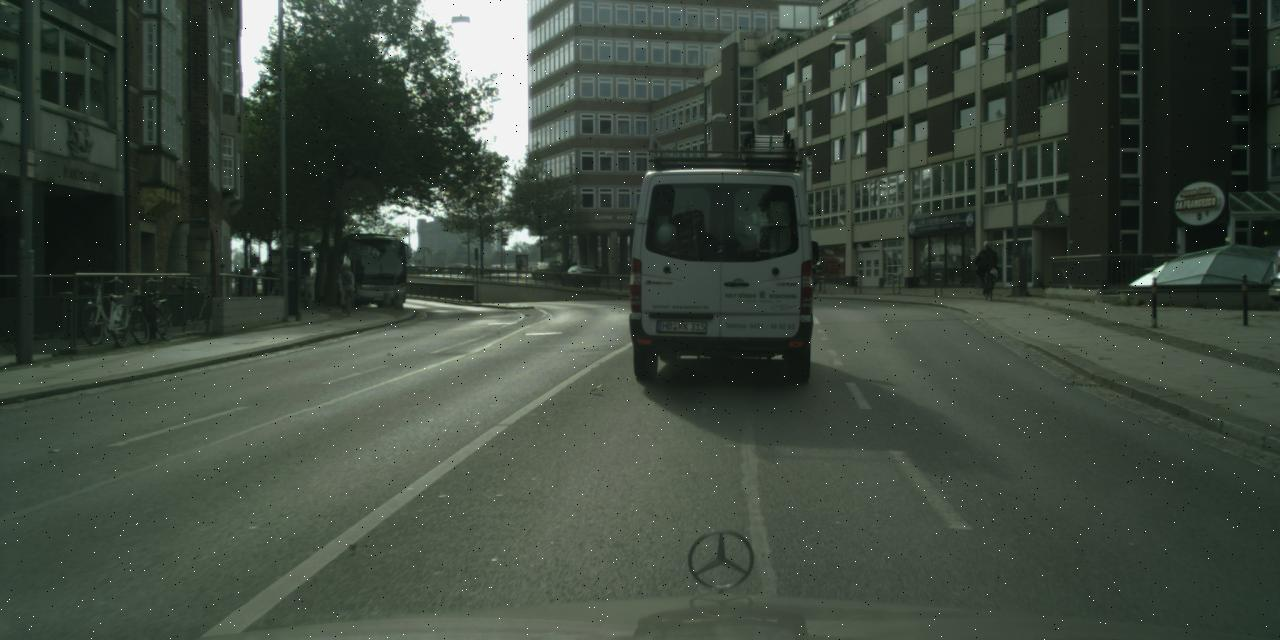ped: (258, 262, 280, 314), (977, 241, 997, 291), (337, 264, 355, 309), (235, 268, 250, 304), (242, 268, 256, 306)
